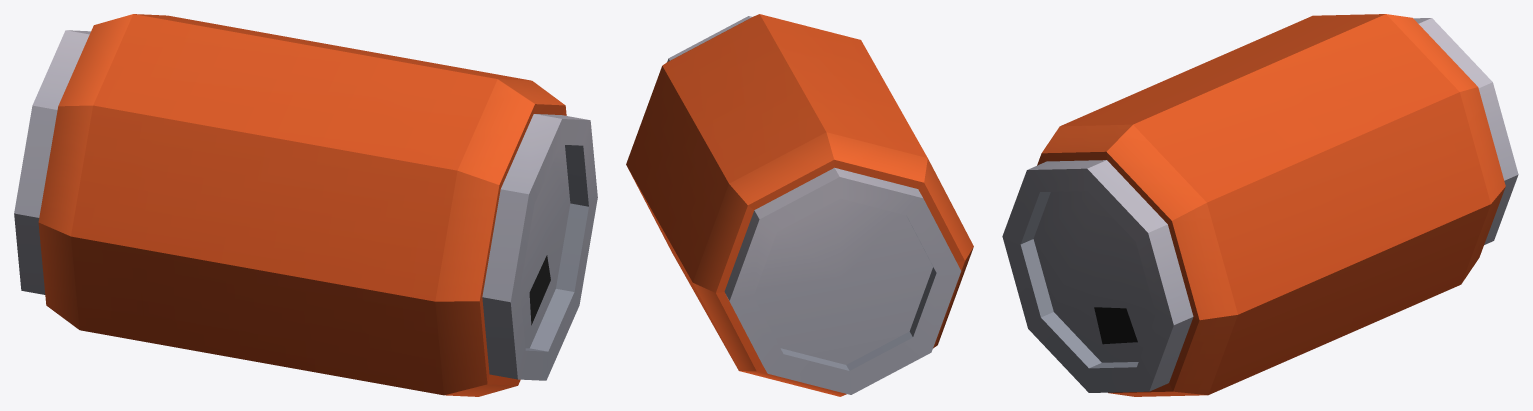
The model's file is Infra_can_mdl.fbx.
The picture shows the model from 3 angles, left to right: view 1: azimuth 30°, elevation 25°; view 2: azimuth 150°, elevation 25°; view 3: azimuth 270°, elevation 25°; orthographic projection. The views are drawn at different scales.
Parts seen in each view (by area): view 1: can_mesh; view 2: can_mesh; view 3: can_mesh.
Part boxes in pixels (x1,y1,x2,y2): can_mesh: (14,14,597,396); can_mesh: (626,14,973,396); can_mesh: (1002,14,1518,396).
Size of the model in its own units: 37.26 by 24.14 by 38.4.
